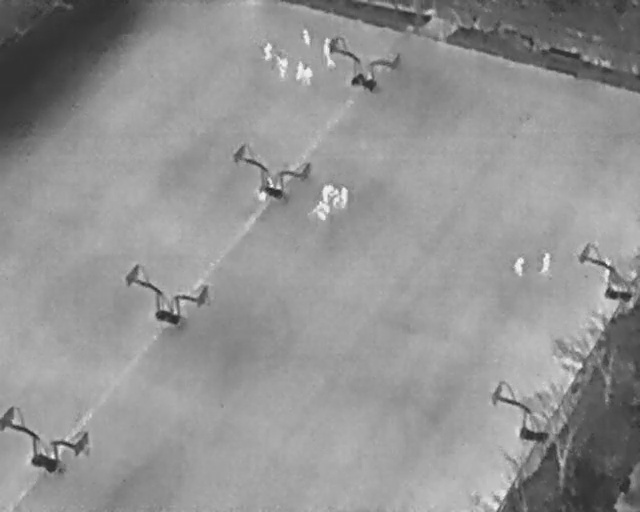Person: (313, 202, 331, 221), (276, 55, 290, 79), (513, 254, 525, 278), (298, 28, 312, 47), (539, 251, 551, 273), (339, 184, 349, 210), (328, 188, 340, 207), (321, 183, 333, 202), (255, 189, 269, 204), (303, 66, 314, 85), (295, 61, 305, 80), (323, 36, 332, 57), (263, 40, 272, 60), (325, 54, 336, 68)
